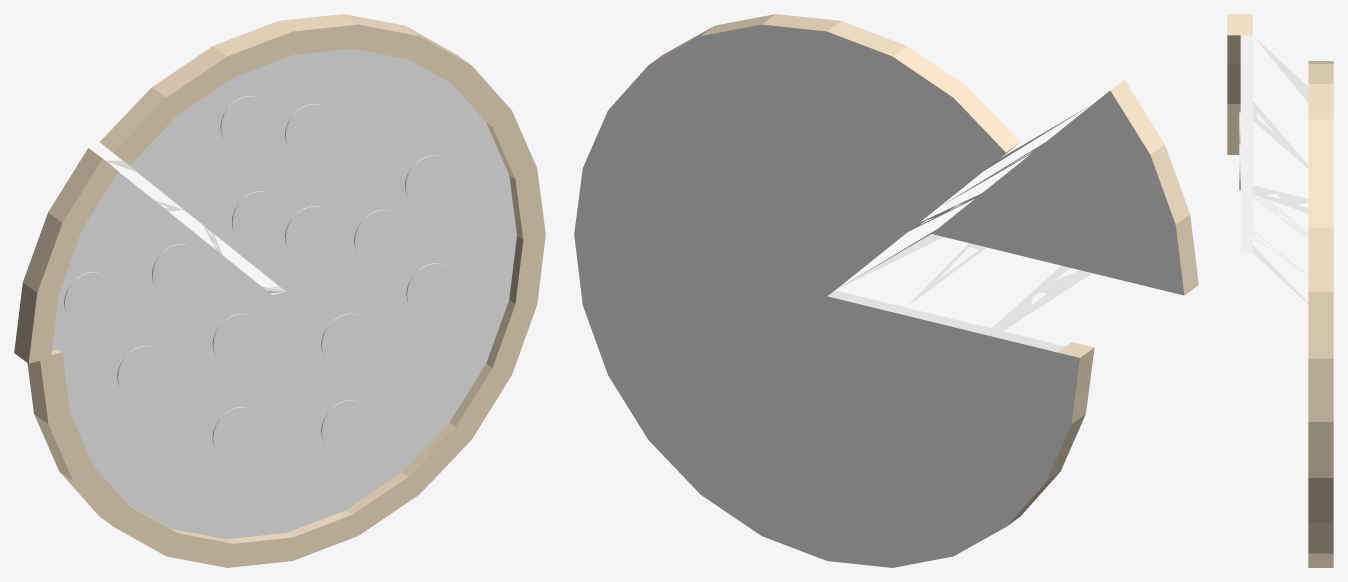
3 views of the same model, side by side, from view 1: azimuth 30°, elevation 25°; view 2: azimuth 150°, elevation 25°; view 3: azimuth 270°, elevation 25° (orthographic). The views are drawn at different scales.
Parts seen in each view (by area): view 1: pizza; view 2: pizza; view 3: pizza.
Boxes of the visible parts, box(x1,y1,x2,y2) form: pizza: box(14, 14, 545, 567); pizza: box(574, 14, 1198, 567); pizza: box(1227, 14, 1333, 567).
Bounding box in the file's own units: 338 × 303 × 63.25.
